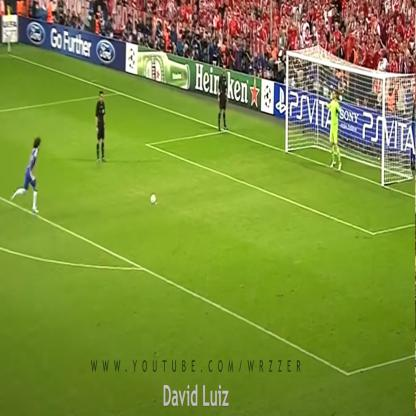penalty kick: (23, 48, 375, 233)
